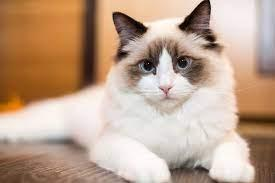ragdoll: (109, 1, 224, 129)
